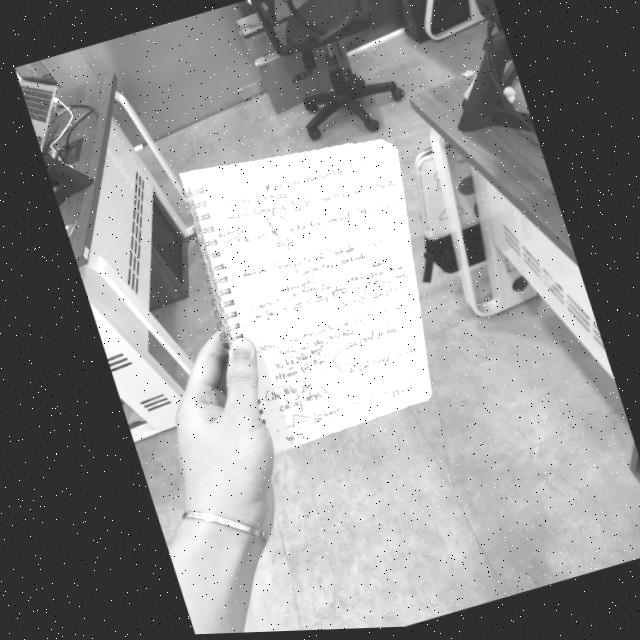document: (179, 136, 432, 459)
